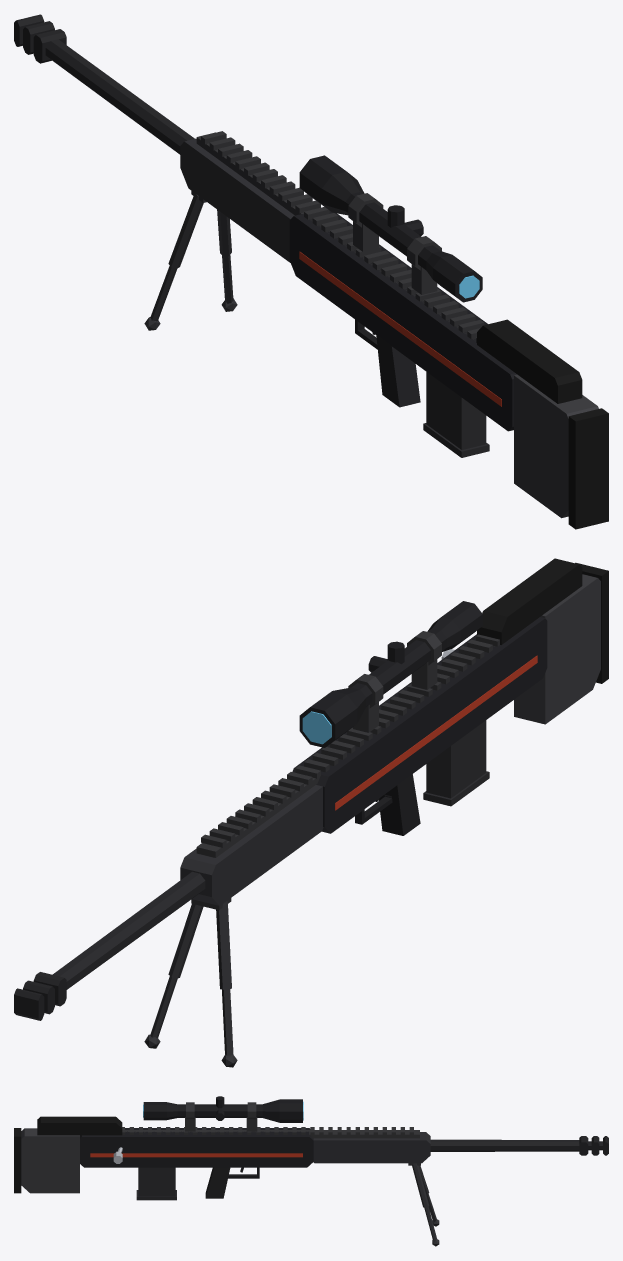
Rendered from Viper.glb.
The picture shows the model from 3 angles, top to bottom: view 1: azimuth 30°, elevation 25°; view 2: azimuth 150°, elevation 25°; view 3: azimuth 270°, elevation 25°; orthographic projection. The views are drawn at different scales.
Parts seen in each view (by area): view 1: Body, Pad, Mount, Stock, Scope, Handguard, Barrel, Magazine, Bipod, Grip, Accent, Muzzle; view 2: Body, Mount, Stock, Handguard, Scope, Pad, Barrel, Bipod, Magazine, Muzzle, Accent, Grip (+1 smaller); view 3: Body, Stock, Handguard, Mount, Scope, Pad, Barrel, Magazine, Accent, Bipod, Grip, Muzzle.
Part boxes in pixels (<box>): Body: <box>289,211,516,431</box>; Pad: <box>477,319,608,529</box>; Mount: <box>196,131,484,342</box>; Stock: <box>514,374,598,518</box>; Scope: <box>299,155,482,302</box>; Handguard: <box>180,138,294,262</box>; Barrel: <box>45,39,194,154</box>; Magazine: <box>423,372,489,457</box>; Bipod: <box>144,191,237,330</box>; Grip: <box>376,335,420,407</box>; Accent: <box>299,251,501,406</box>; Muzzle: <box>14,14,66,63</box>; Body: <box>292,617,547,833</box>; Mount: <box>196,631,499,857</box>; Stock: <box>514,574,600,724</box>; Handguard: <box>180,785,323,905</box>; Scope: <box>299,601,482,747</box>; Pad: <box>477,558,608,683</box>; Barrel: <box>52,871,205,989</box>; Bipod: <box>144,898,237,1067</box>; Magazine: <box>423,720,489,806</box>; Muzzle: <box>14,972,66,1020</box>; Accent: <box>335,655,537,810</box>; Grip: <box>378,774,420,835</box>; Body: <box>80,1128,313,1167</box>; Stock: <box>21,1128,79,1193</box>; Handguard: <box>313,1132,430,1163</box>; Mount: <box>122,1102,419,1138</box>; Scope: <box>143,1096,302,1122</box>; Pad: <box>14,1116,122,1193</box>; Barrel: <box>430,1139,579,1151</box>; Magazine: <box>136,1167,176,1200</box>; Accent: <box>90,1153,302,1157</box>; Bipod: <box>408,1163,439,1246</box>; Grip: <box>205,1167,230,1198</box>; Muzzle: <box>579,1136,608,1155</box>.
Size of the model in its own units: 0.524 by 1.43 by 5.6.
